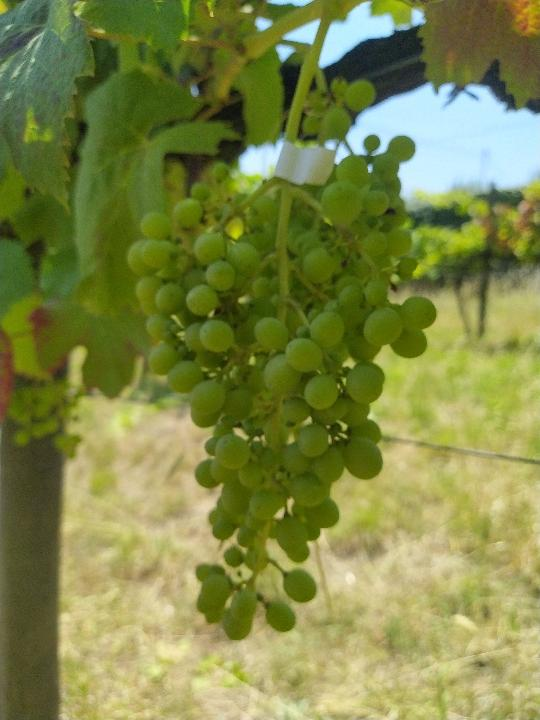grape: (122, 128, 438, 646)
